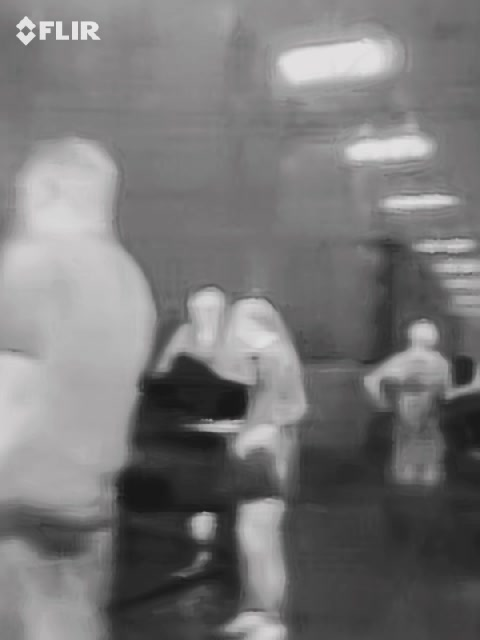head: (18, 138, 116, 234), (230, 292, 278, 348), (187, 285, 226, 326)
